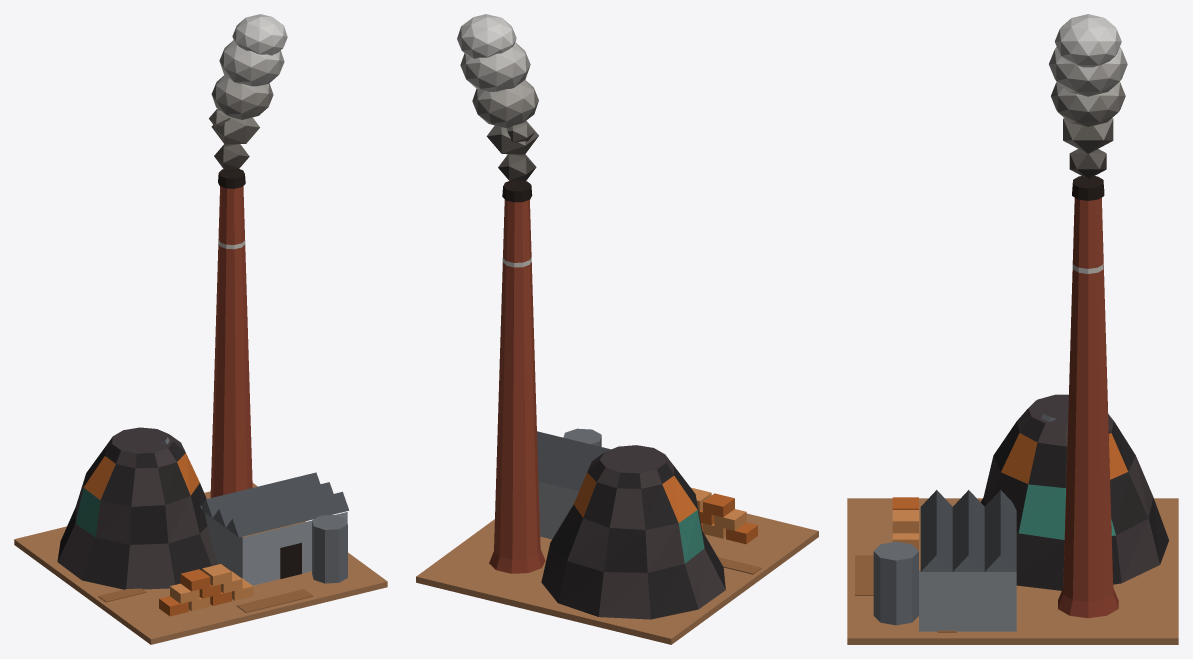
File: cuivreLubumbashi.glb
The picture shows the model from 3 angles, left to right: view 1: azimuth 30°, elevation 25°; view 2: azimuth 150°, elevation 25°; view 3: azimuth 270°, elevation 25°; orthographic projection. The views are drawn at different scales.
Parts seen in each view (by area): view 1: cuivreLubumbashi; view 2: cuivreLubumbashi; view 3: cuivreLubumbashi.
Boxes of the visible parts, x1,y1,x2,y2 form: cuivreLubumbashi: (14,14,387,644); cuivreLubumbashi: (416,14,818,644); cuivreLubumbashi: (847,14,1178,644).
Size of the model in its own units: 1.76 by 3.58 by 1.76.
